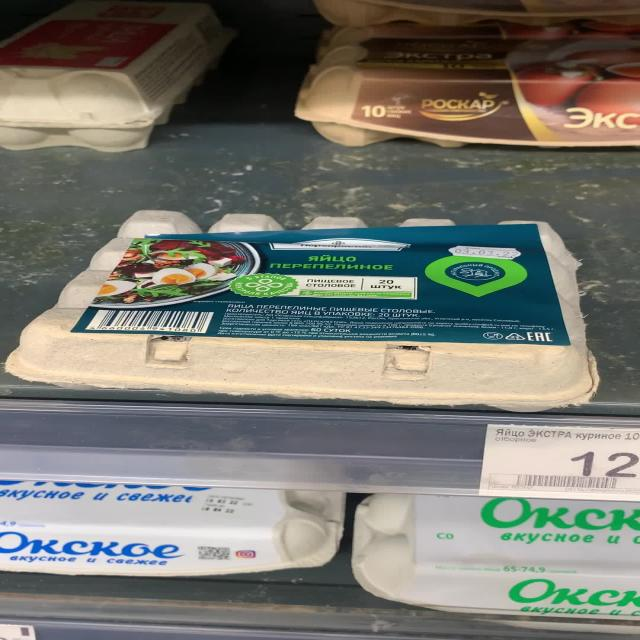egg box: (5, 209, 602, 411), (292, 36, 634, 149), (2, 0, 258, 149), (357, 491, 637, 620), (0, 486, 348, 574)
